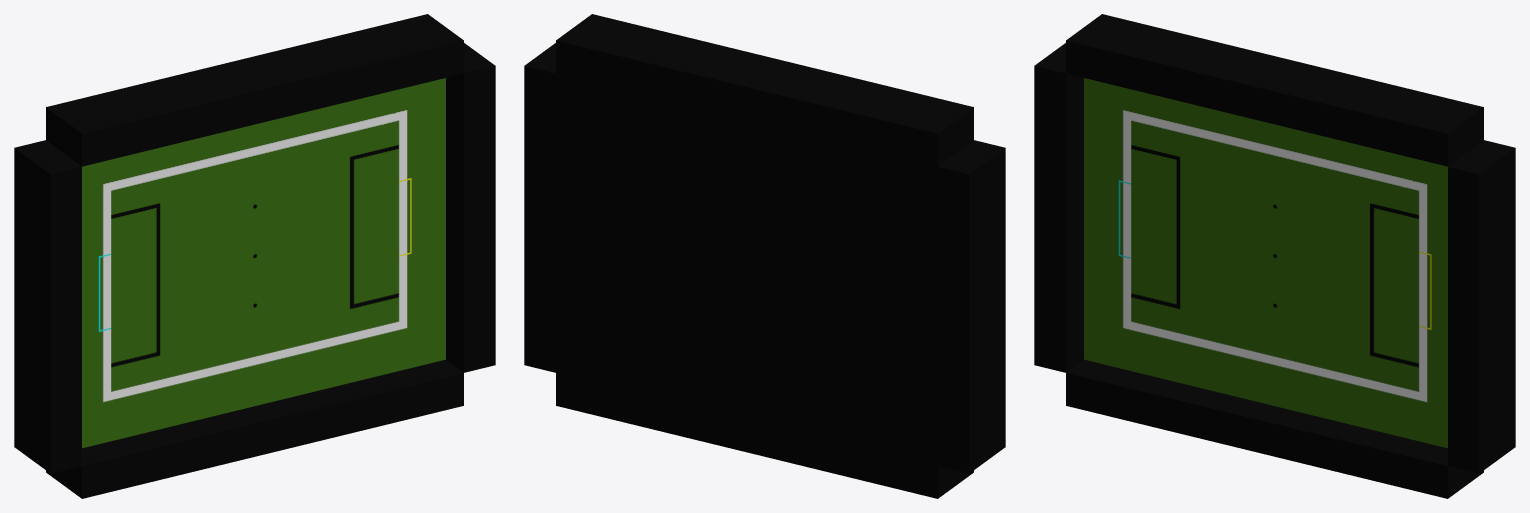
The model's file is field.glb.
3 views of the same model, side by side, from view 1: azimuth 30°, elevation 25°; view 2: azimuth 150°, elevation 25°; view 3: azimuth 330°, elevation 25° (orthographic).
Parts seen in each view (by area): view 1: Cube; view 2: Cube; view 3: Cube.
Part boxes in pixels (x1,y1,x2,y2): Cube: (14,14,495,498); Cube: (524,14,1005,498); Cube: (1034,14,1515,498).
Size of the model in its own units: 2.83 by 2.22 by 0.4.
2 materials, 1 textured.
